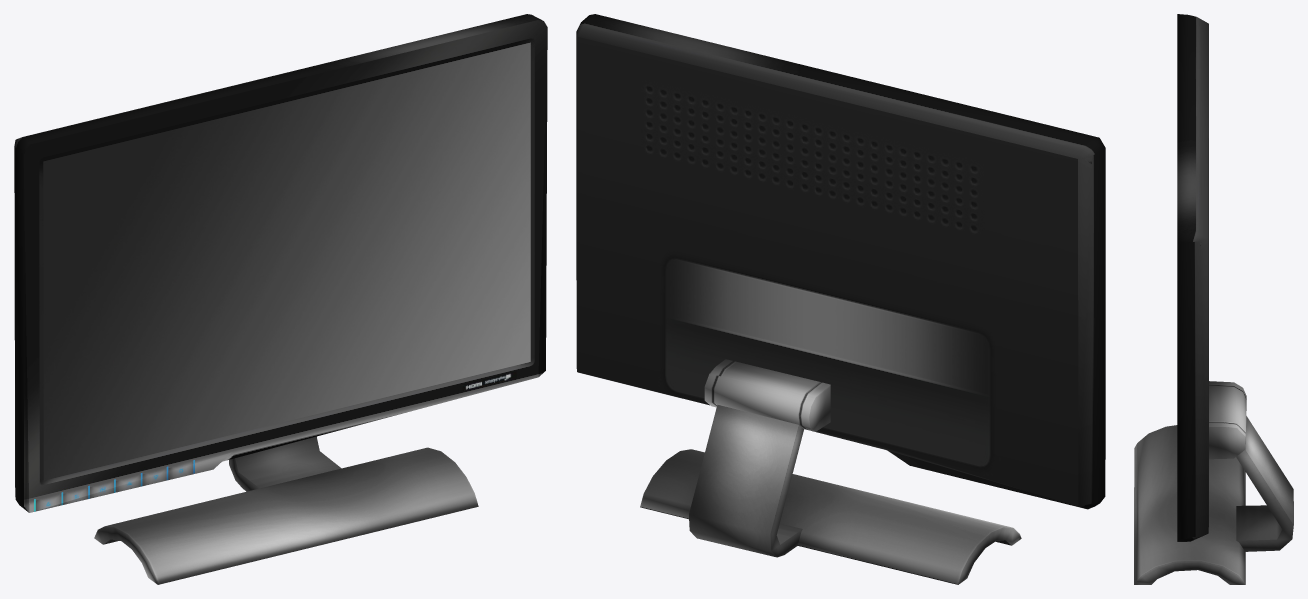
Rendered from computer_monitor.dae.
3 renders of one model, left to right at view 1: azimuth 30°, elevation 25°; view 2: azimuth 150°, elevation 25°; view 3: azimuth 270°, elevation 25°, orthographic. The views are drawn at different scales.
Parts seen in each view (by area): view 1: 10120_LCD_Computer_Monitor_v01_max2011_it2; view 2: 10120_LCD_Computer_Monitor_v01_max2011_it2; view 3: 10120_LCD_Computer_Monitor_v01_max2011_it2.
Boxes of the visible parts, x1,y1,x2,y2 form: 10120_LCD_Computer_Monitor_v01_max2011_it2: (14, 14, 547, 584); 10120_LCD_Computer_Monitor_v01_max2011_it2: (576, 14, 1105, 584); 10120_LCD_Computer_Monitor_v01_max2011_it2: (1134, 14, 1293, 584).
Size of the model in its own units: 0.5731 by 0.1735 by 0.4685.
